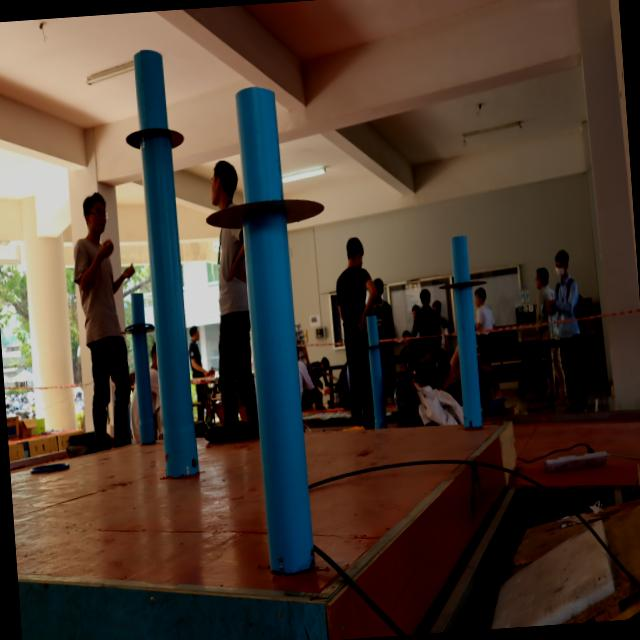pole: (203, 78, 331, 288), (108, 42, 193, 202), (436, 228, 486, 336), (122, 290, 159, 357), (356, 310, 387, 362)
